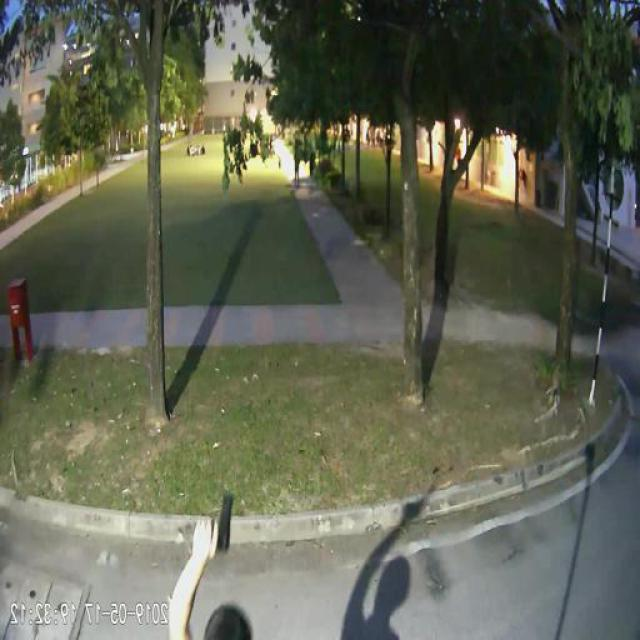Gun: (196, 490, 236, 551)
